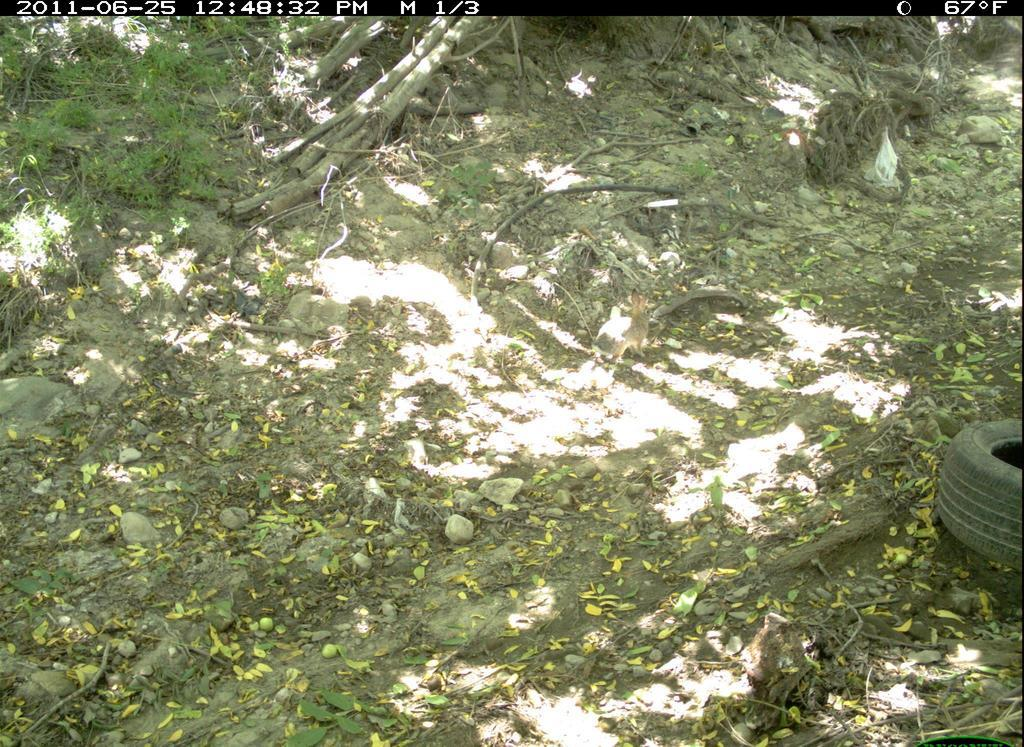rabbit: (588, 285, 658, 373)
